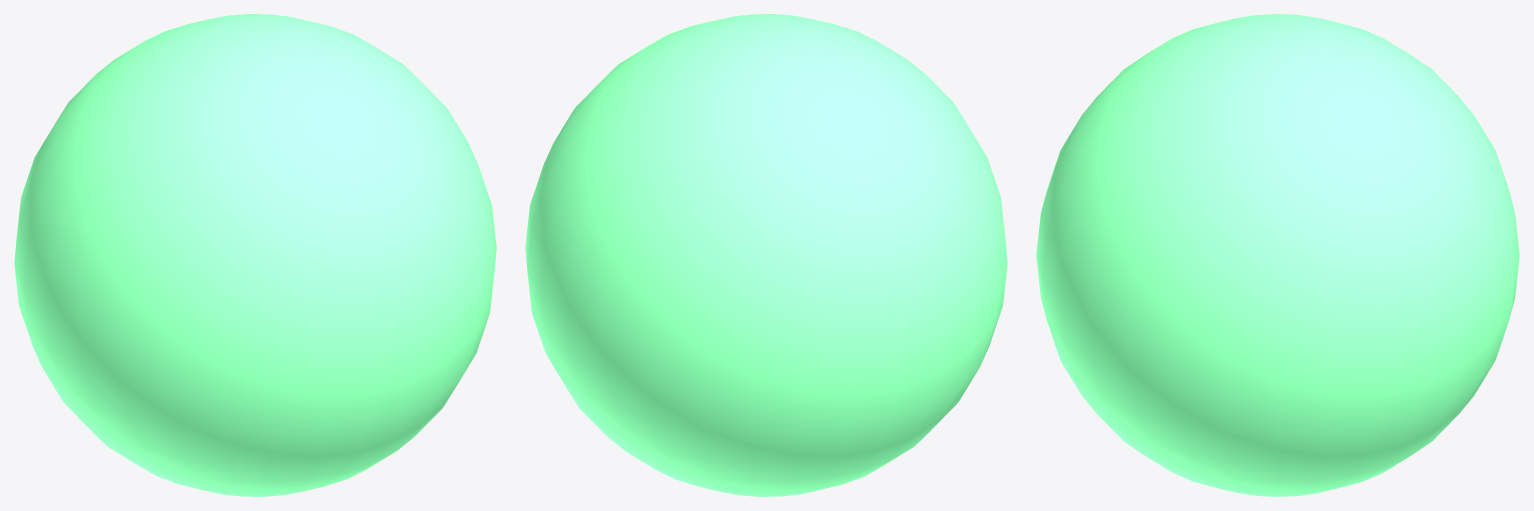
Rendered from Orb_04_翠绿灵珠.glb.
3 renders of one model, left to right at view 1: azimuth 30°, elevation 25°; view 2: azimuth 150°, elevation 25°; view 3: azimuth 270°, elevation 25°, orthographic.
Parts seen in each view (by area): view 1: Sphere; view 2: Sphere; view 3: Sphere.
Part boxes in pixels (bbox=[...]): Sphere: bbox=[14, 14, 496, 496]; Sphere: bbox=[525, 14, 1007, 496]; Sphere: bbox=[1036, 14, 1519, 496].
Bounding box in the file's own units: 0.96 × 0.96 × 0.96.
